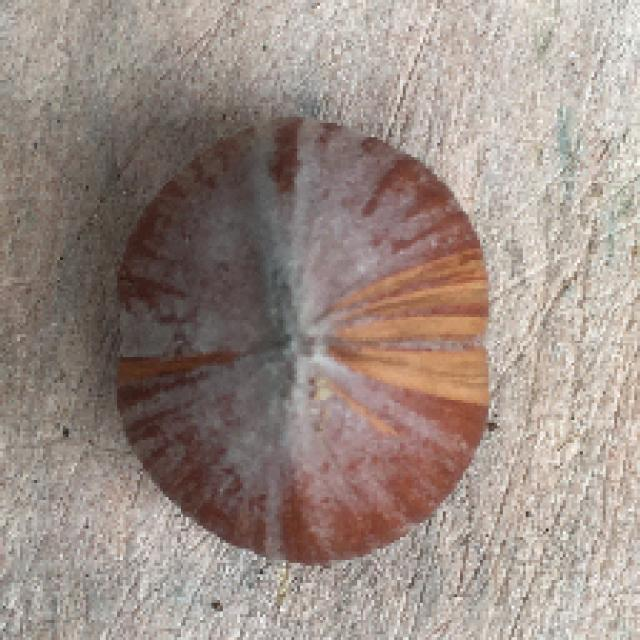qualityHazelnut: (109, 116, 495, 567)
